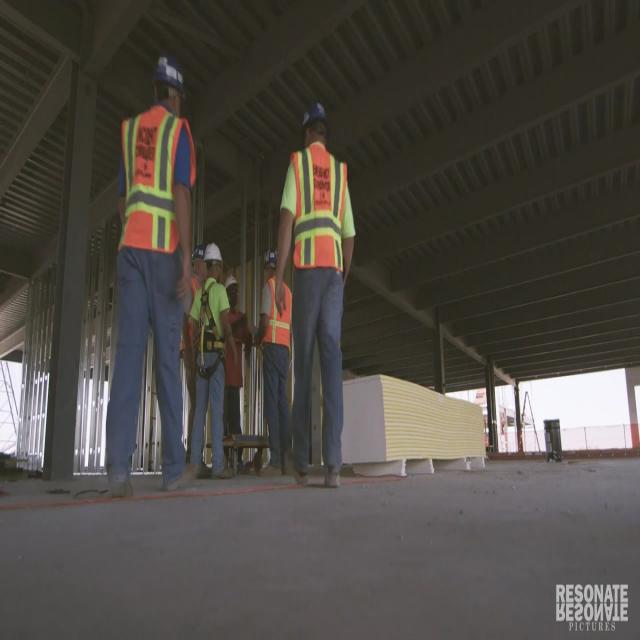Reflective-Jacket: (108, 106, 202, 268), (274, 144, 362, 288), (198, 274, 232, 372), (178, 273, 210, 372), (258, 276, 292, 354), (223, 302, 247, 386)
Safety-Helmet: (144, 42, 194, 108), (294, 89, 336, 143), (200, 235, 228, 270), (188, 238, 210, 270), (261, 244, 283, 276), (223, 270, 242, 298)
